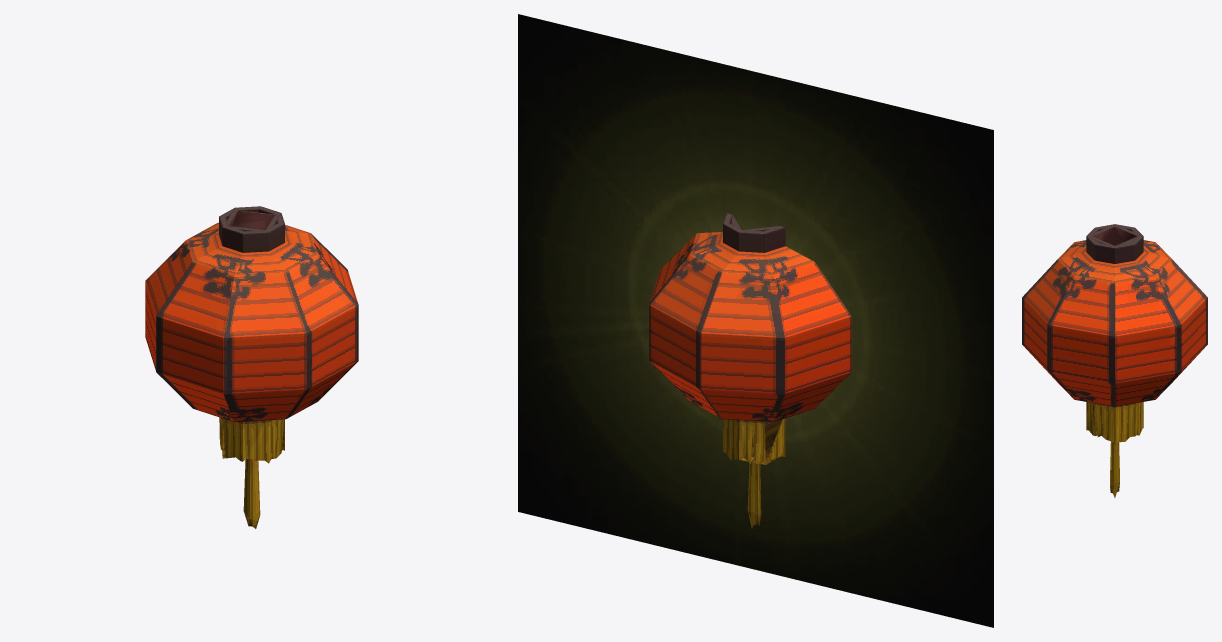
Rendered from item_lantern_cny.glb.
3 views of the same model, side by side, from view 1: azimuth 30°, elevation 25°; view 2: azimuth 150°, elevation 25°; view 3: azimuth 270°, elevation 25° (orthographic). The views are drawn at different scales.
Parts seen in each view (by area): view 1: floating_lantern; view 2: Quad, floating_lantern; view 3: floating_lantern.
Boxes of the visible parts, bbox=[...] form: floating_lantern: bbox=[145, 206, 358, 528]; Quad: bbox=[518, 14, 993, 627]; floating_lantern: bbox=[649, 213, 851, 528]; floating_lantern: bbox=[1022, 224, 1207, 497].
Size of the model in its own units: 0.8309 by 0.8309 by 0.3343.
Materials: 2 (2 with a texture image).
